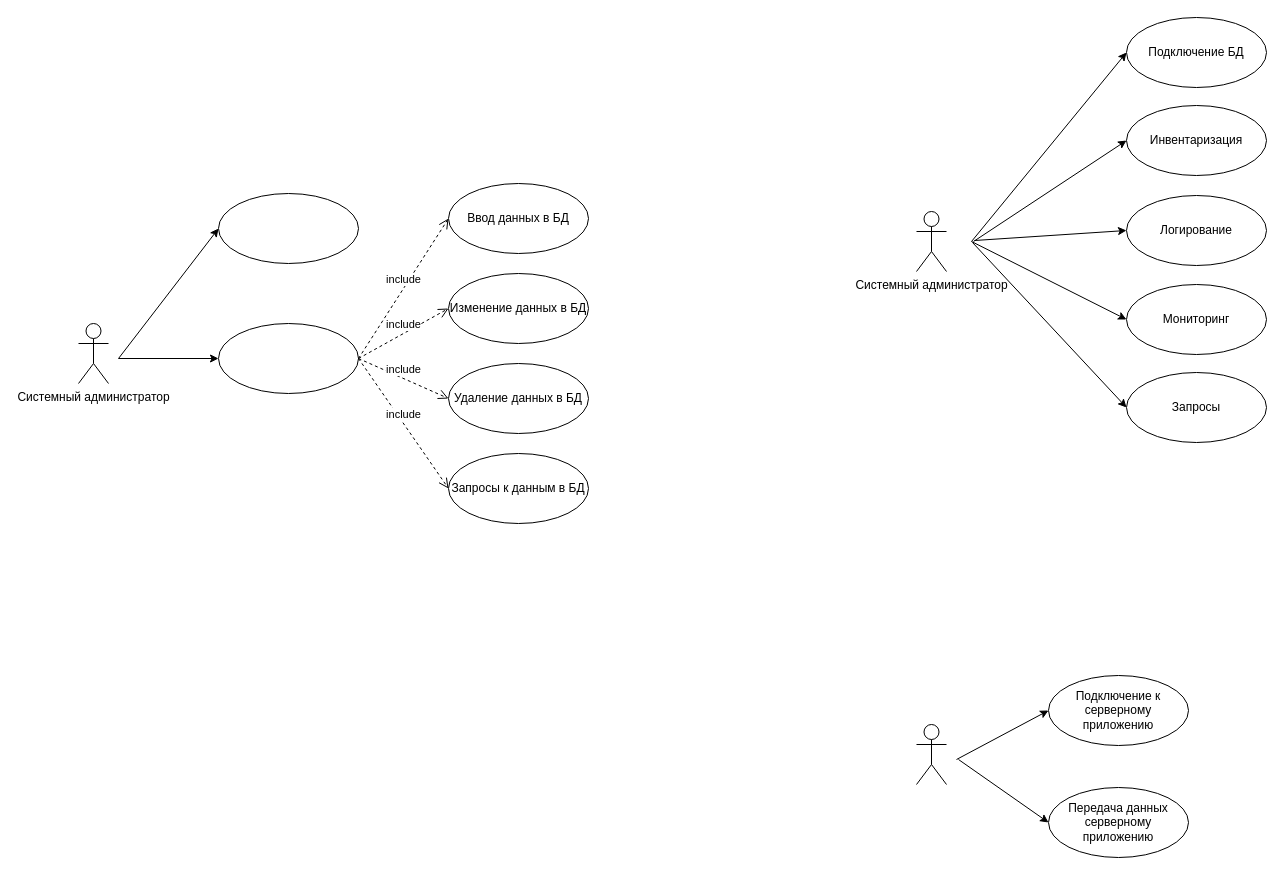
Some shapes in this 1284 by 875 pixel diagram are drawn without their labels. Here are the shapes that lost their labels. From the top down, the box of each, then its label:
(218, 192, 358, 264): Авторизация с БД
(218, 322, 358, 394): Операции с данными в БД
(916, 724, 946, 784): Клиент
